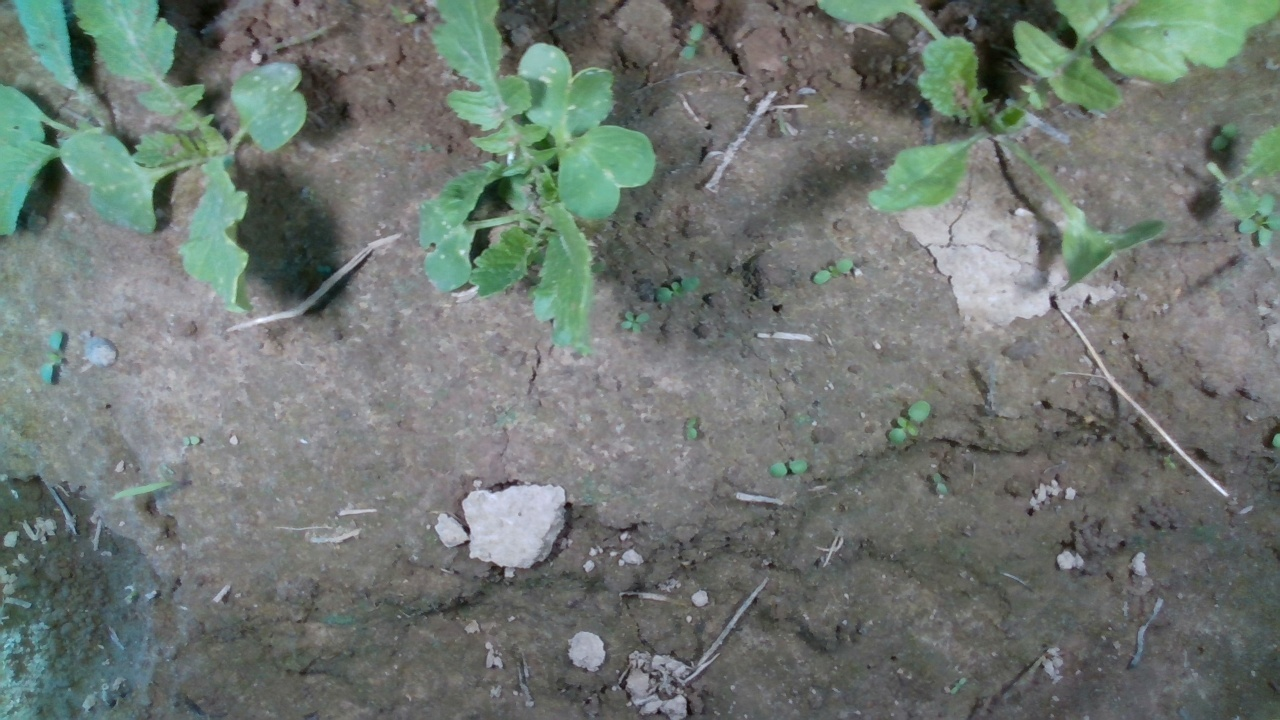weed: (887, 399, 931, 444), (39, 329, 63, 386), (655, 274, 702, 302), (812, 256, 854, 285), (766, 458, 809, 479), (618, 311, 651, 335), (932, 469, 949, 497), (683, 414, 698, 440), (180, 435, 200, 447)
